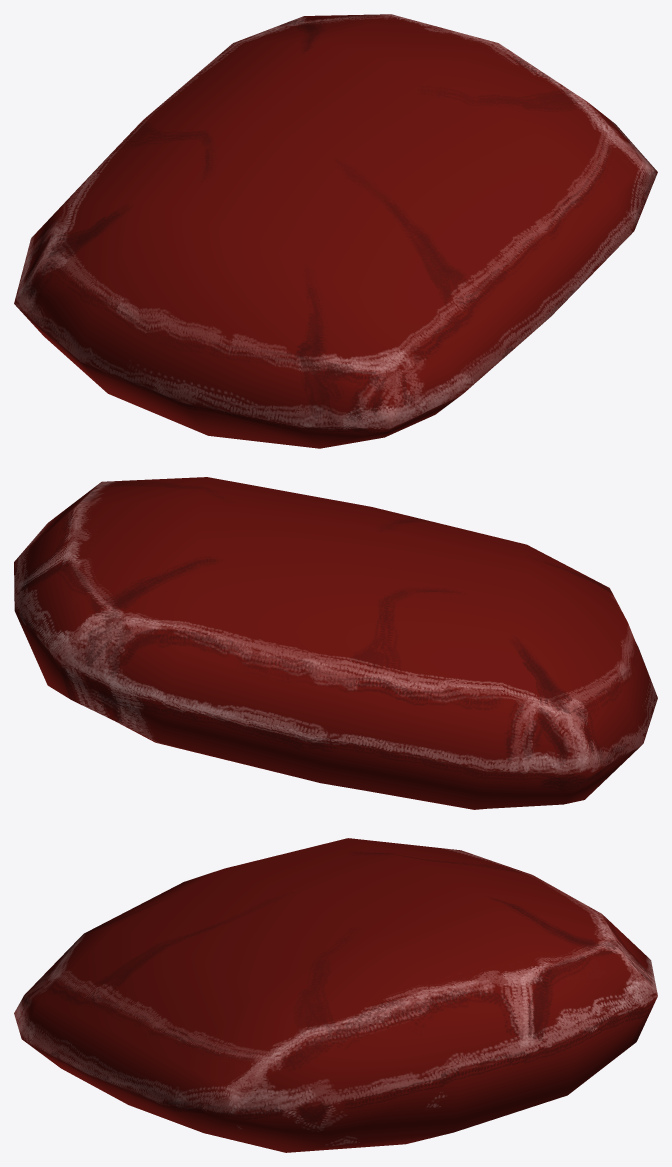
Rendered from pillow.fbx.
3 views of the same model, one above another, from view 1: azimuth 30°, elevation 25°; view 2: azimuth 150°, elevation 25°; view 3: azimuth 270°, elevation 25° (orthographic). The views are drawn at different scales.
Parts seen in each view (by area): view 1: Rooms_01_pillow; view 2: Rooms_01_pillow; view 3: Rooms_01_pillow.
Part boxes in pixels (<box>): Rooms_01_pillow: <box>14,14,657,448</box>; Rooms_01_pillow: <box>14,477,657,809</box>; Rooms_01_pillow: <box>14,838,657,1152</box>.
Bounding box in the file's own units: 0.2325 × 0.0979 × 0.2182.
